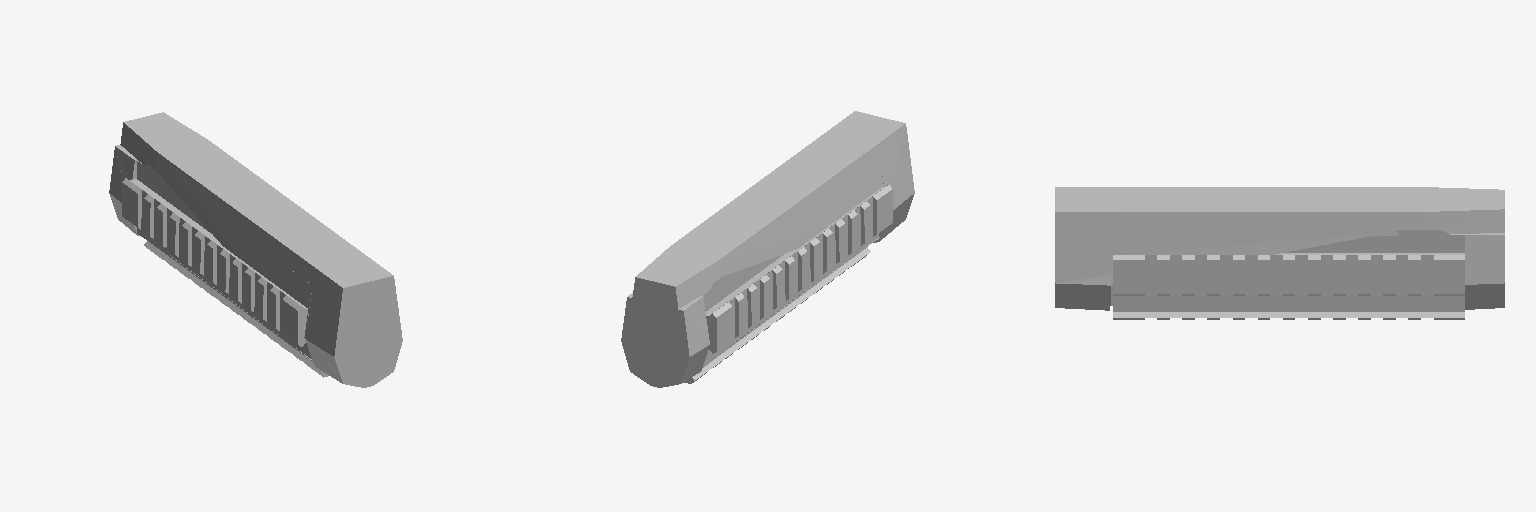
Rendered from Grip12.obj.
3 views of the same model, side by side, from view 1: azimuth 30°, elevation 25°; view 2: azimuth 150°, elevation 25°; view 3: azimuth 270°, elevation 25° (orthographic).
Parts seen in each view (by area): view 1: Cube.002; view 2: Cube.002; view 3: Cube.002.
Part boxes in pixels (bbox=[...]): Cube.002: bbox=[109, 112, 402, 387]; Cube.002: bbox=[621, 111, 914, 387]; Cube.002: bbox=[1055, 187, 1504, 319].
Bounding box in the file's own units: 0.2026 × 0.2625 × 0.9485.